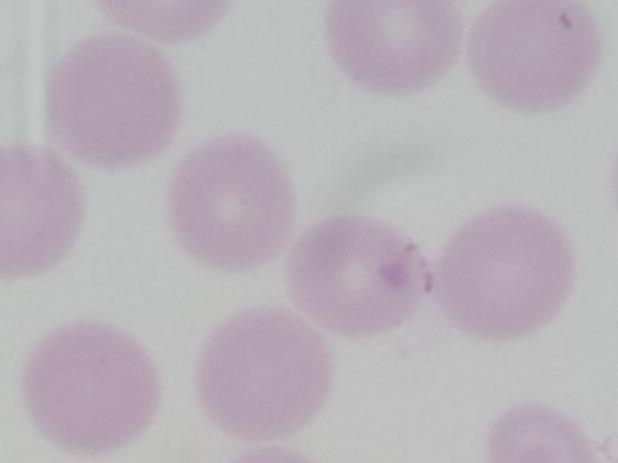Uninfected: (289, 214, 435, 339), (436, 208, 570, 340), (196, 307, 328, 441), (26, 320, 161, 451), (171, 134, 293, 273), (49, 39, 176, 169), (474, 0, 596, 113), (323, 0, 457, 93), (0, 144, 85, 279)
